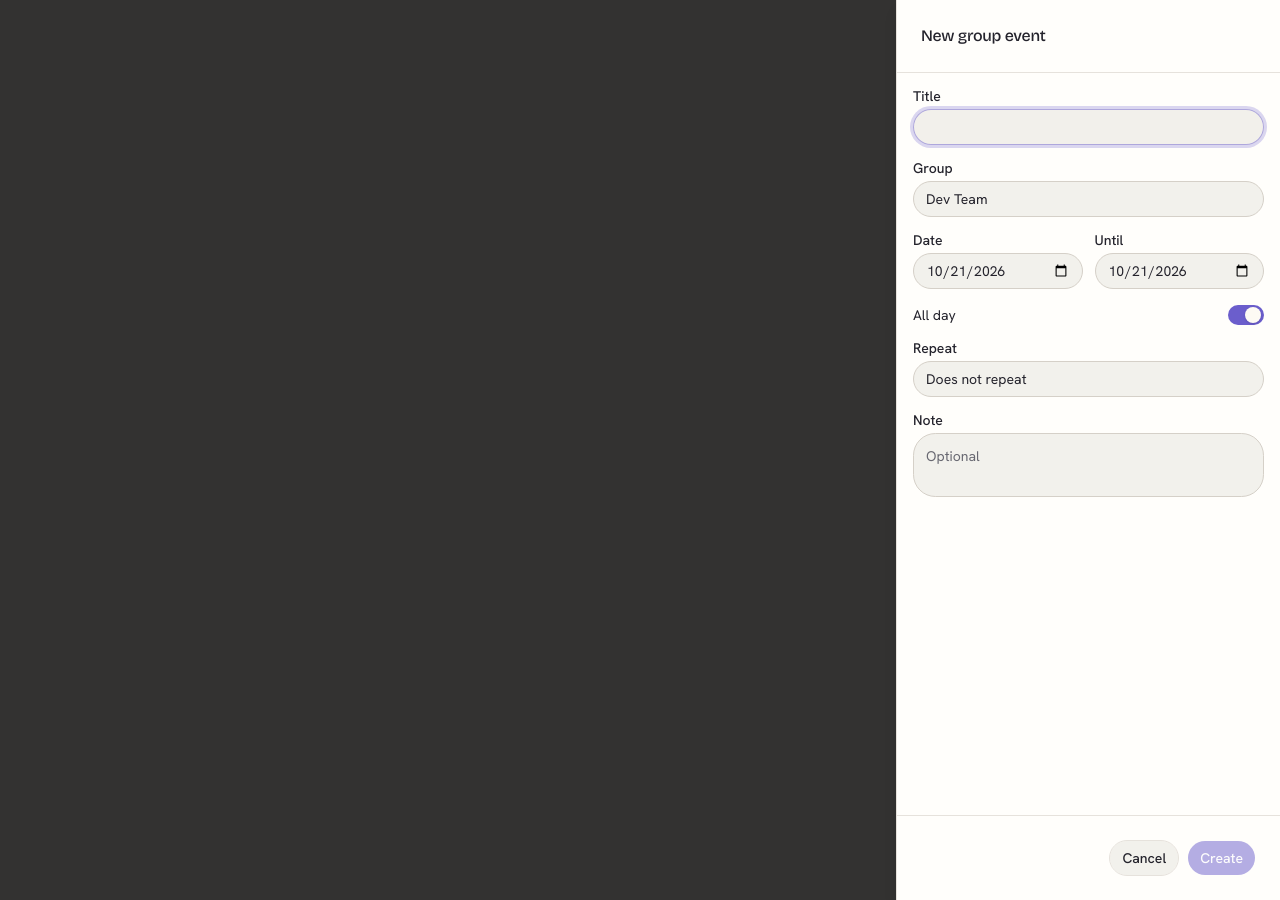
Test: GroupEventSheetHost, creating › turns repeat off and disables it once the event runs over more than one day
The width and height of the screenshot is (1280, 900).
Click the dropdown labelled "repeat" at (976, 379), box [913,361,1264,397]
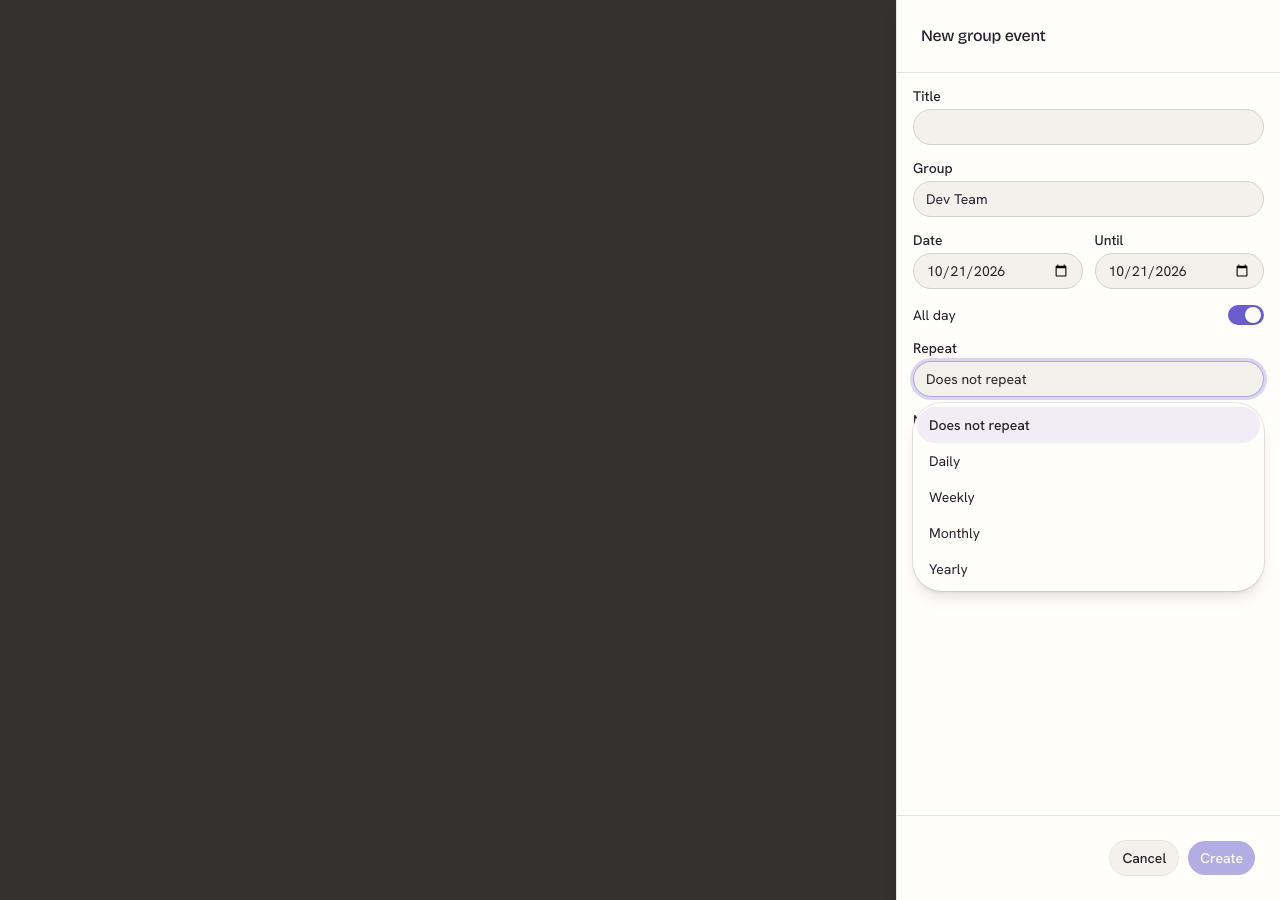
Click the option "Daily" at (945, 461), box [929,452,960,470]
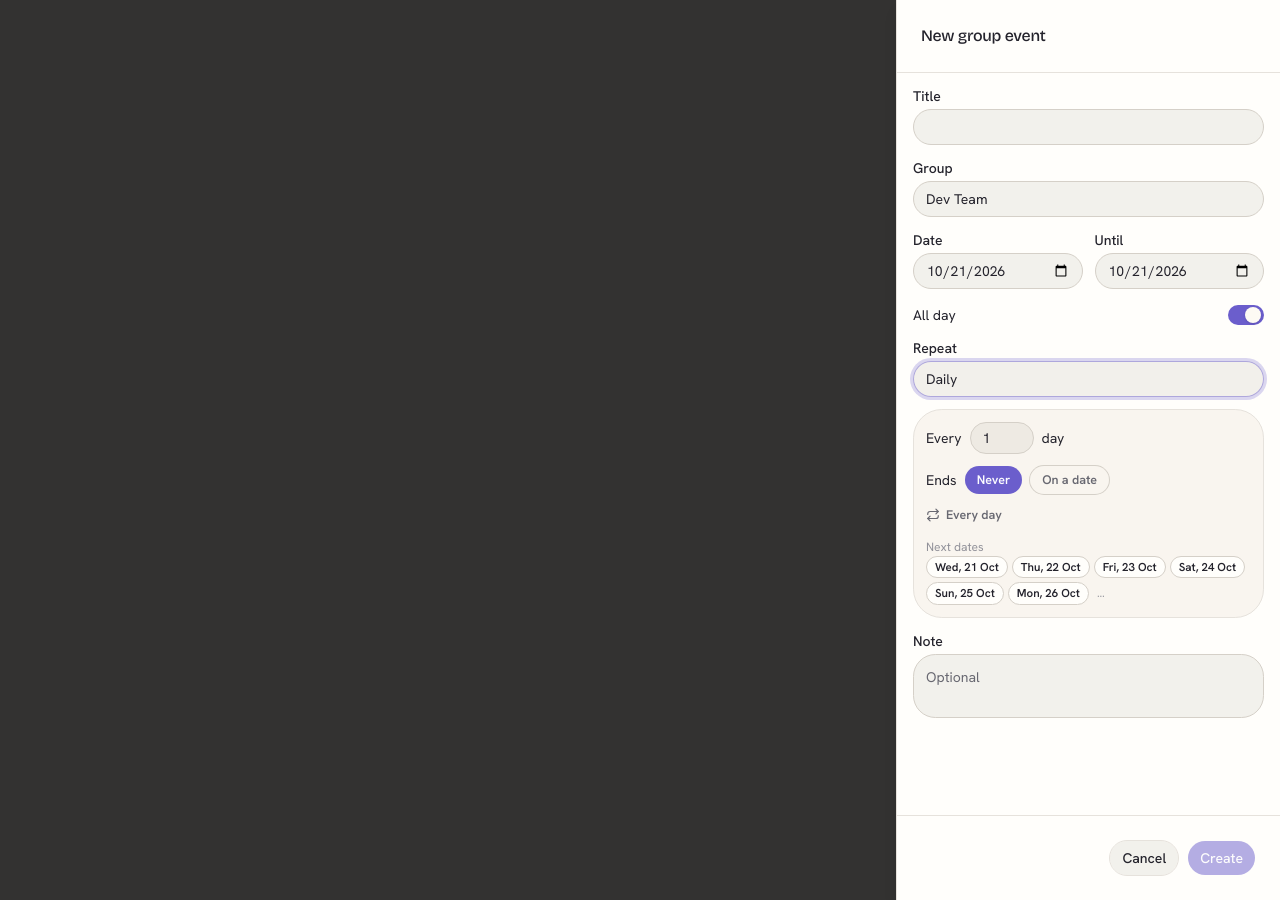
Type "2026-10-23" into the date field labelled "Until" at (1179, 271), box [1094,253,1264,289]
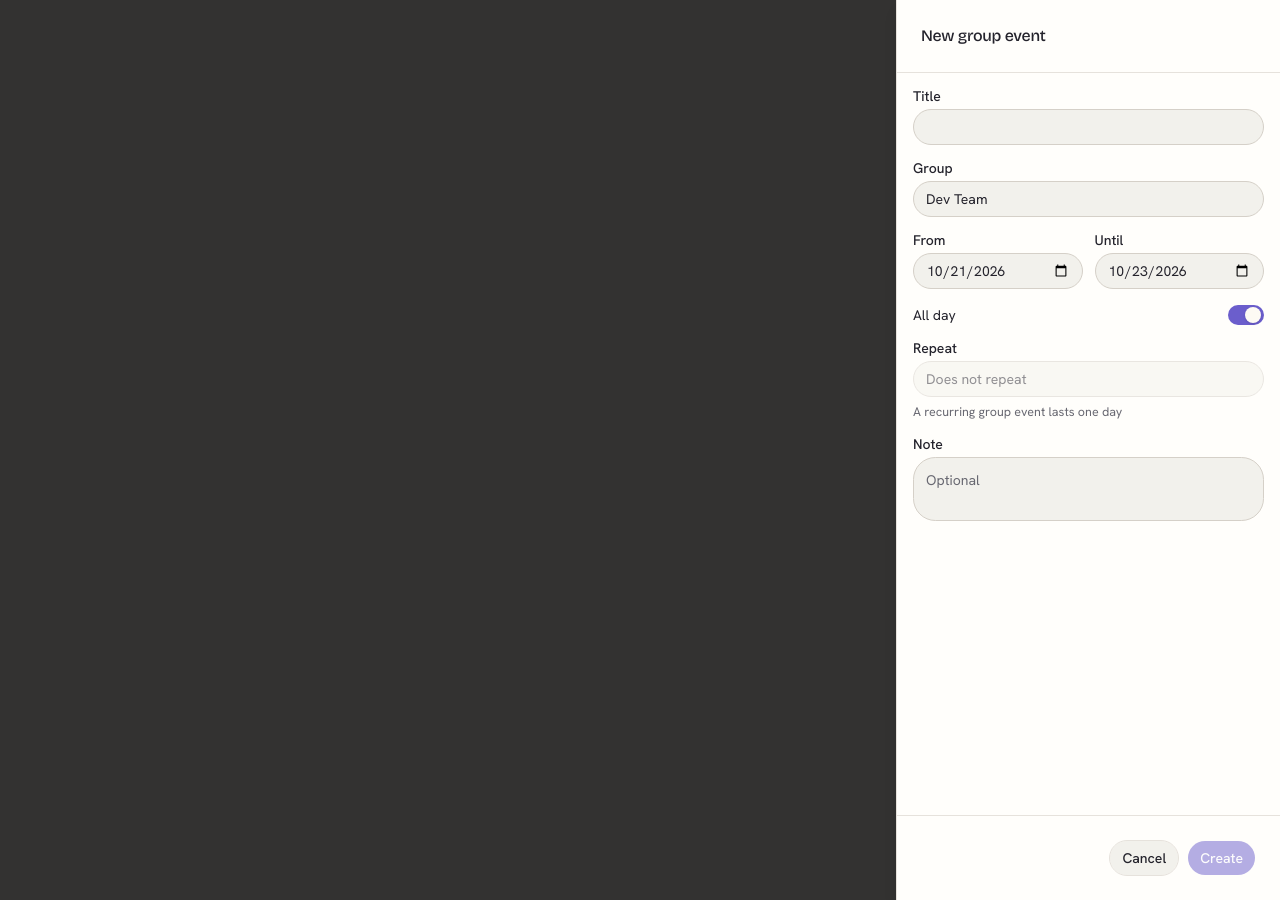
Now the dropdown labelled "repeat" is disabled, box [913,361,1264,397]
Now the dropdown labelled "repeat" reads "Does not repeat", box [913,361,1264,397]
Now the text "A recurring group event lasts one day" is shown, box [913,403,1122,420]
